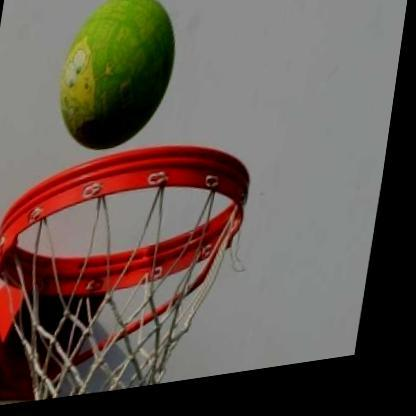basketball: (51, 0, 190, 163)
rim: (0, 125, 280, 414)
